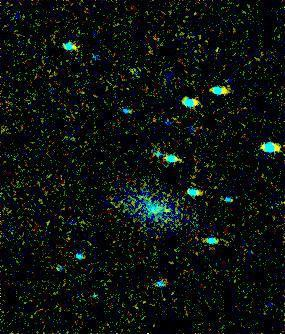star: (152, 195, 182, 225)
